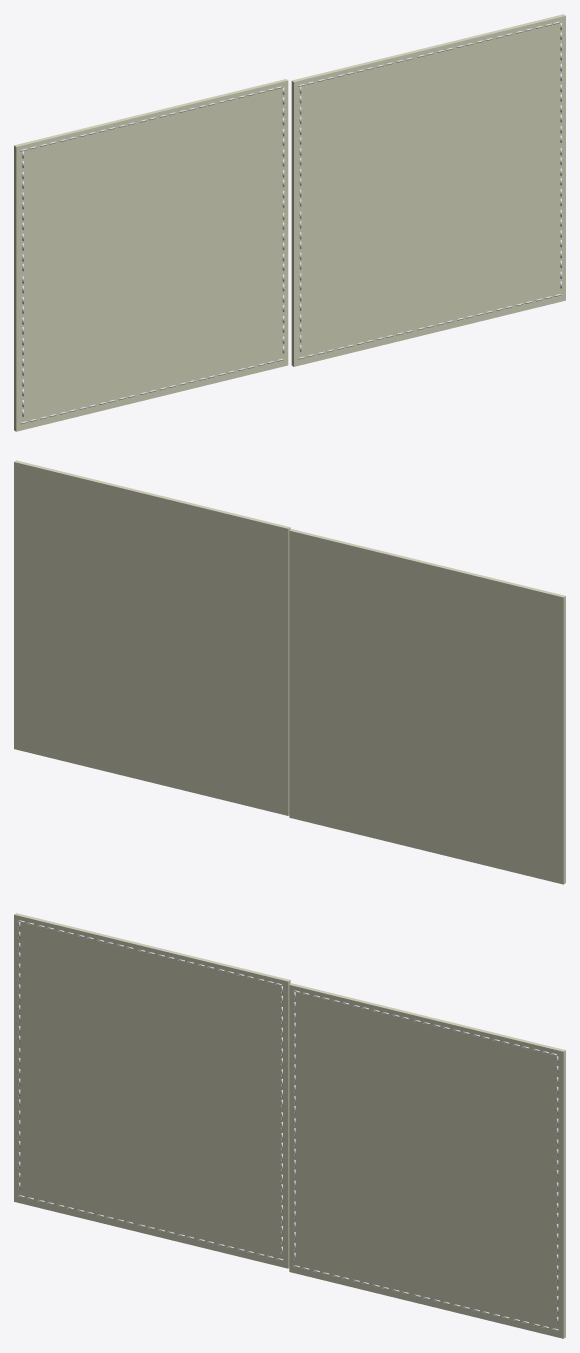
Rendered from placa.fbx.
The picture shows the model from 3 angles, top to bottom: view 1: azimuth 30°, elevation 25°; view 2: azimuth 150°, elevation 25°; view 3: azimuth 330°, elevation 25°; orthographic projection.
Parts seen in each view (by area): view 1: placa couro pespontado_003, placa couro pespontado_001; view 2: placa couro pespontado_001, placa couro pespontado_003; view 3: placa couro pespontado_003, placa couro pespontado_001.
Part boxes in pixels (x1=…): placa couro pespontado_003: x1=291, y1=14, x2=565, y2=366; placa couro pespontado_001: x1=14, y1=79, x2=288, y2=431; placa couro pespontado_001: x1=289, y1=529, x2=565, y2=884; placa couro pespontado_003: x1=14, y1=460, x2=290, y2=815; placa couro pespontado_003: x1=289, y1=983, x2=565, y2=1338; placa couro pespontado_001: x1=14, y1=913, x2=290, y2=1268.
Size of the model in its own units: 27.72 by 13.82 by 0.4735.
